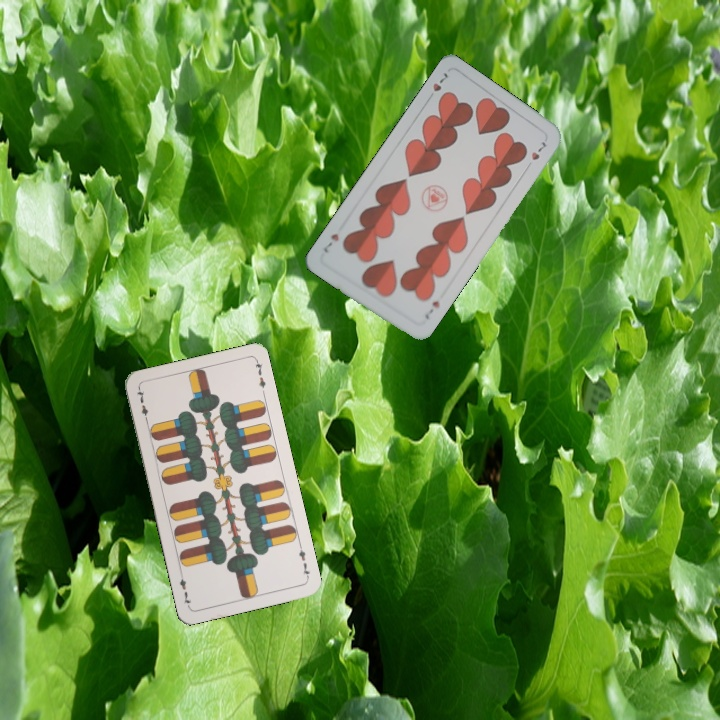E7: (133, 385, 151, 425), (294, 541, 312, 581)
H7: (423, 68, 450, 103), (420, 296, 442, 322)
